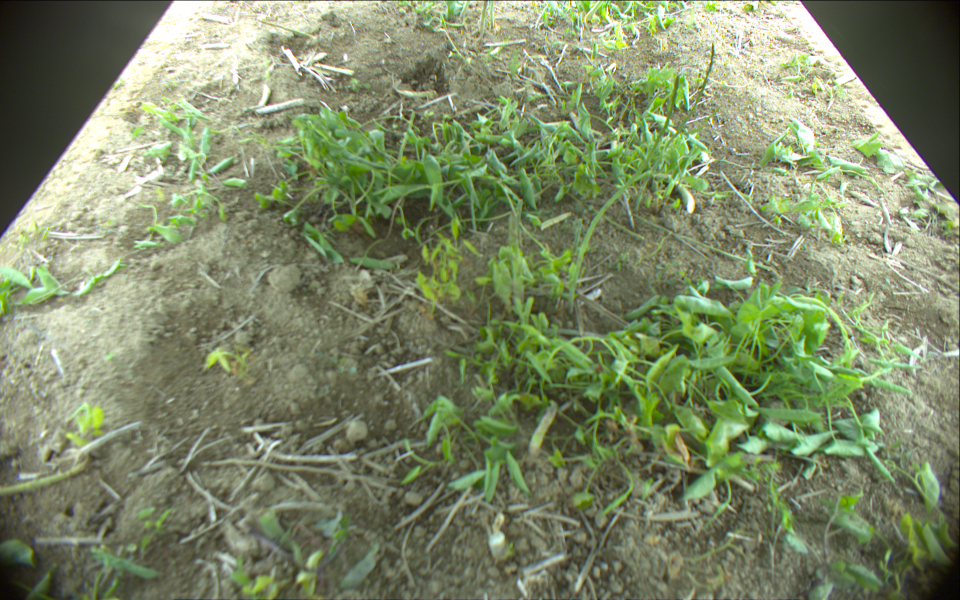aspa: (571, 171, 648, 307), (629, 75, 680, 179), (679, 43, 715, 132), (529, 405, 556, 456), (256, 18, 315, 40), (479, 1, 487, 30), (458, 1, 470, 19), (489, 1, 496, 31)
